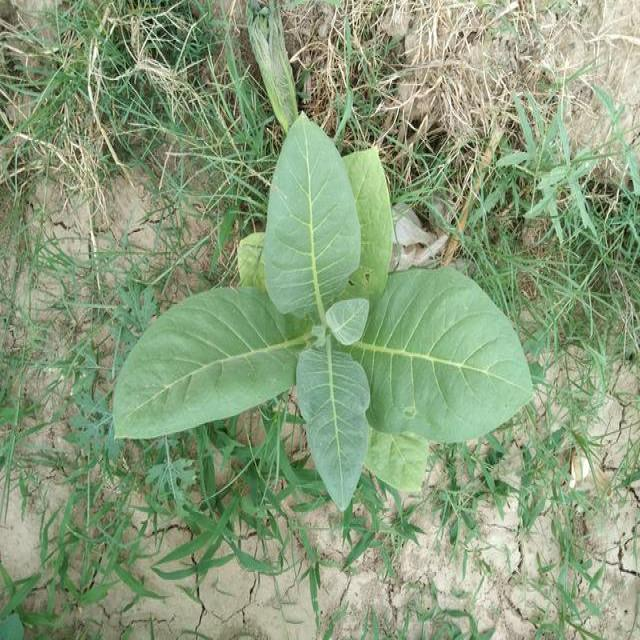crop: (108, 108, 542, 506)
